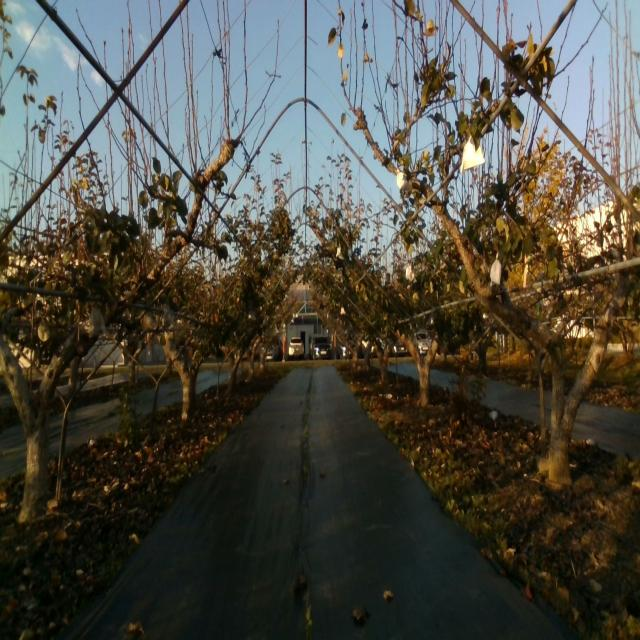pearbags: (461, 134, 485, 173), (89, 306, 106, 337), (489, 254, 502, 286), (396, 169, 413, 193), (405, 264, 417, 284), (162, 308, 173, 328)
